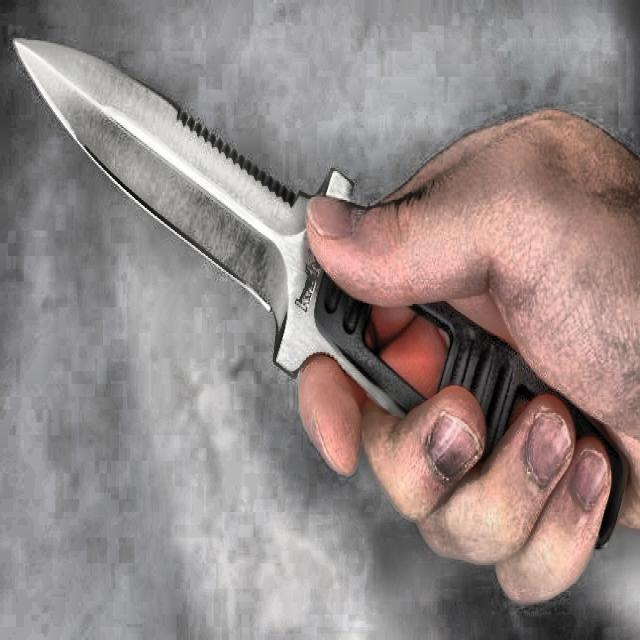knife: (14, 40, 628, 549)
